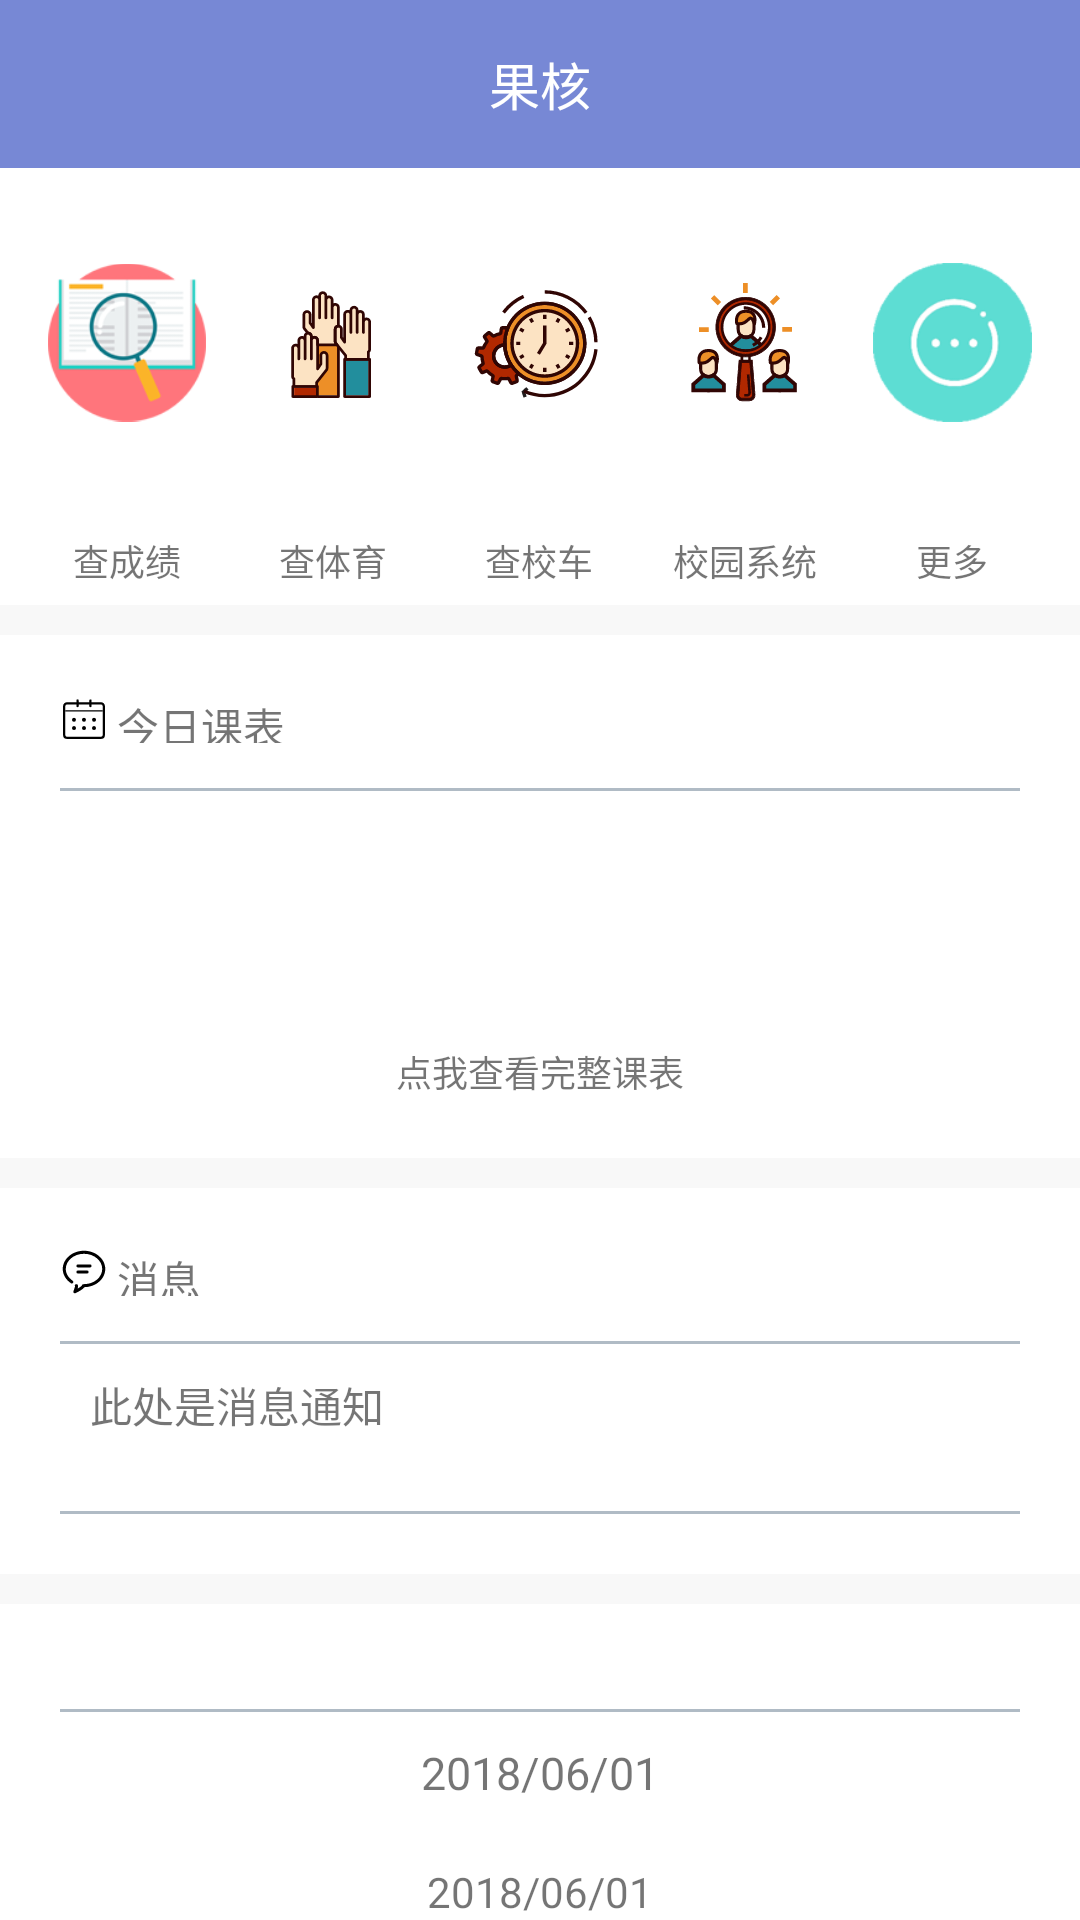

Icon click points for this 1080*1920 phone screenshot, format point (x, y):
more: point (952, 342)
